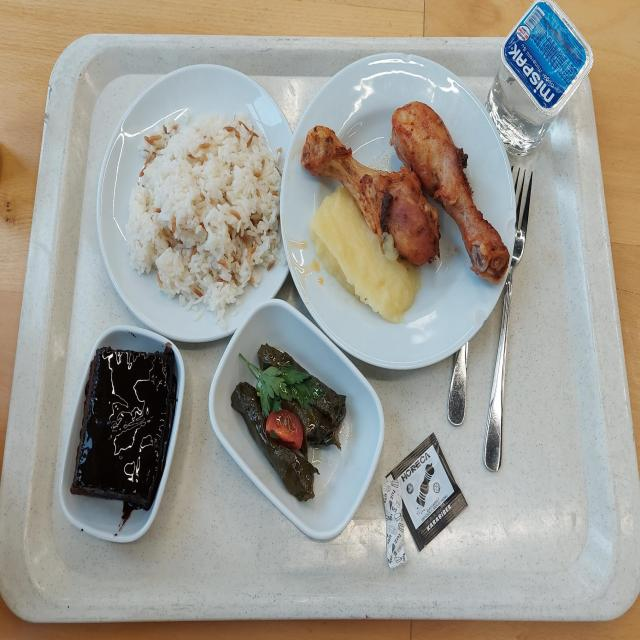ana_yemek: (297, 53, 497, 370), (105, 83, 278, 323)
yan_yemek: (213, 326, 377, 525), (56, 336, 182, 563)
